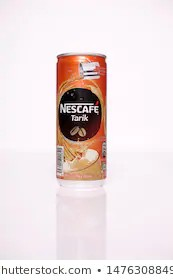nescafe-can: (53, 51, 109, 185)
